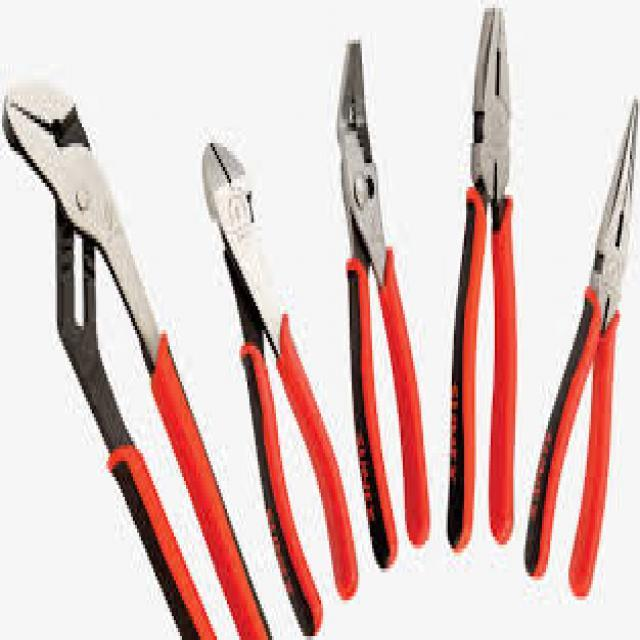pliers: (3, 70, 259, 640), (186, 115, 358, 640), (316, 16, 434, 593), (521, 92, 640, 624), (438, 0, 524, 571)
